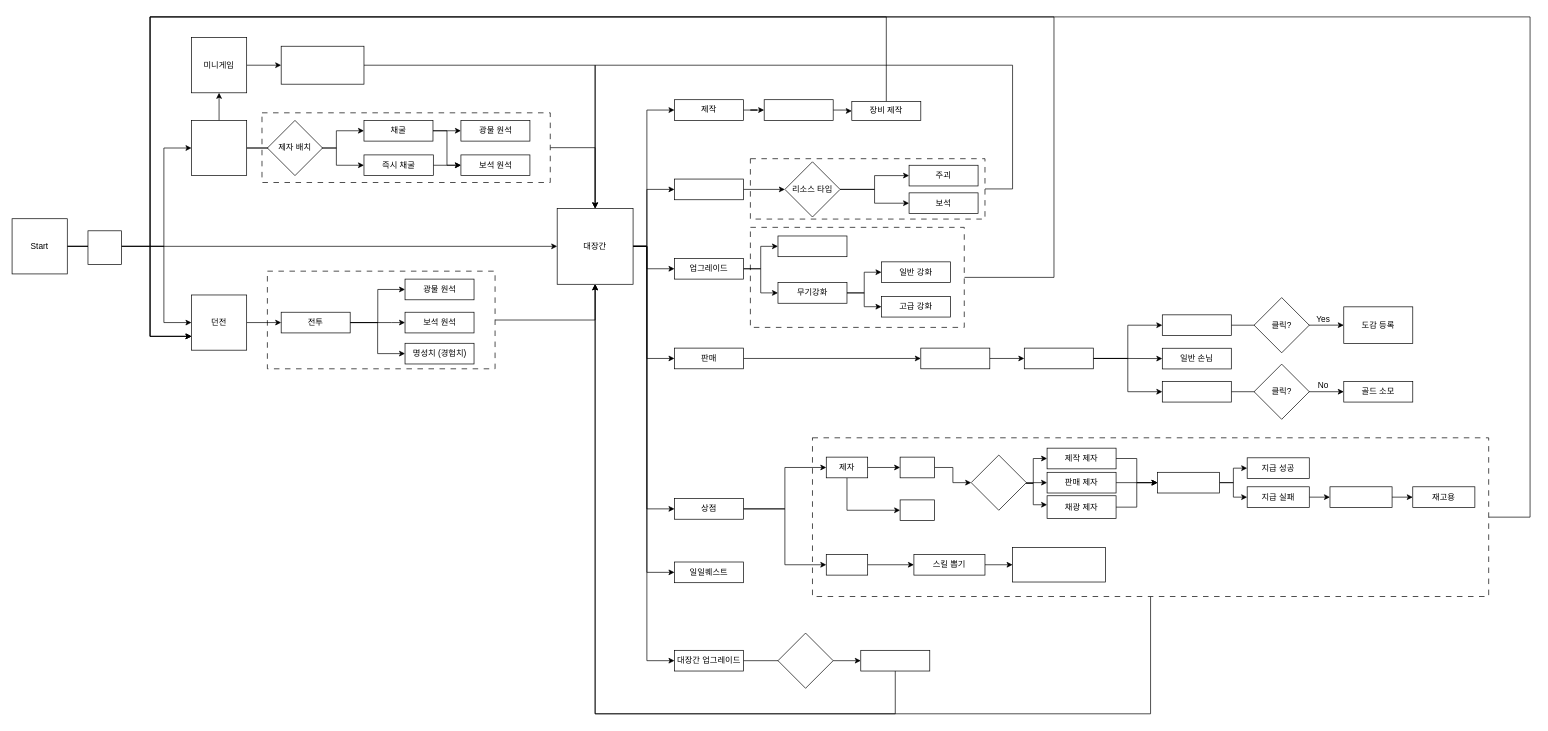
Image size: 1548x731. Some labels were removed from this diagram. The shapes that lost their labels are listed below. From the top down, each one's centre as x and y in pixels, then its label:
pixel 322 65: 자원 및 다이아 획득
pixel 798 109: 장비 레시피 해금
pixel 219 148: 광산
pixel 708 189: 정련,세공
pixel 104 247: 튜토리얼
pixel 812 246: 보석 부여
pixel 1196 325: 단골 손님
pixel 955 358: 고객 방문
pixel 1058 358: 원하는 장비
pixel 1196 391: 진상 손님
pixel 917 467: 영입
pixel 998 482: Type
pixel 1188 482: 시급
pixel 917 510: 해고
pixel 1360 496: 제자 탈주
pixel 847 564: 스킬
pixel 1058 564: 대장간 경영에 도움이 되는 액티브 스킬
pixel 805 660: All 업그레이드
pixel 895 660: 대장간 해금
